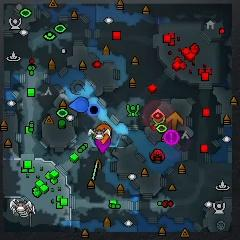Other: (163, 129, 180, 145), (151, 107, 165, 122)
p1: (68, 97, 90, 113)
p1Clone: (87, 104, 100, 117)
p3: (94, 136, 111, 153)
p5: (97, 124, 112, 144)
x5: (166, 111, 184, 130)
